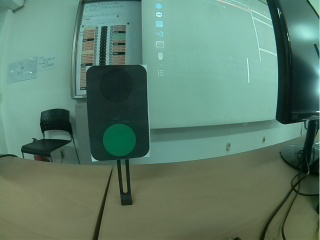green_light: (84, 65, 153, 167)
